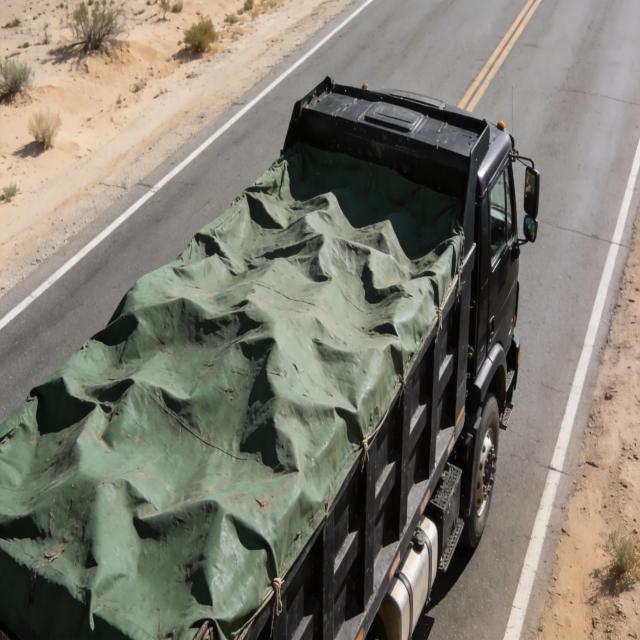Box: (4, 78, 489, 633)
Truck: (0, 68, 544, 639)
